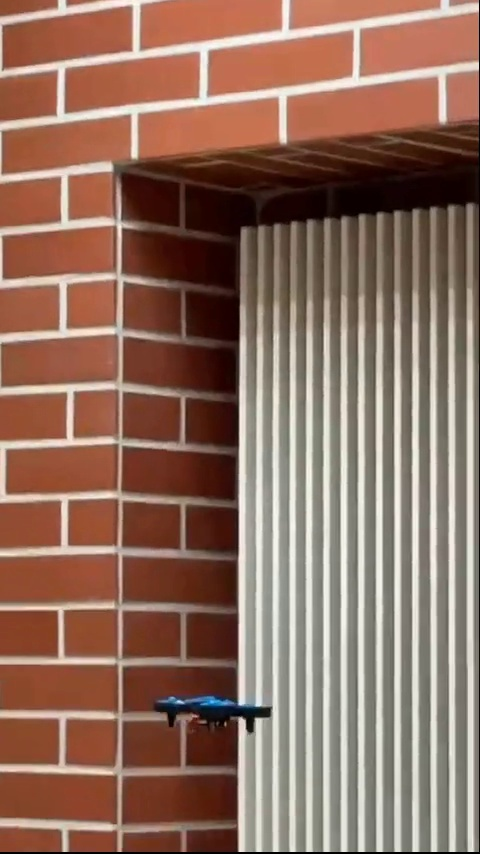drone: (154, 691, 276, 738)
